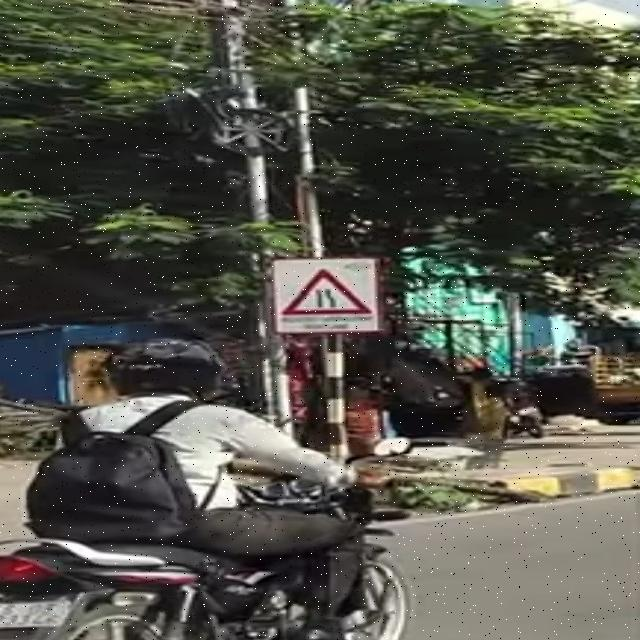roadnarrows_on_rightside: (254, 251, 399, 348)
